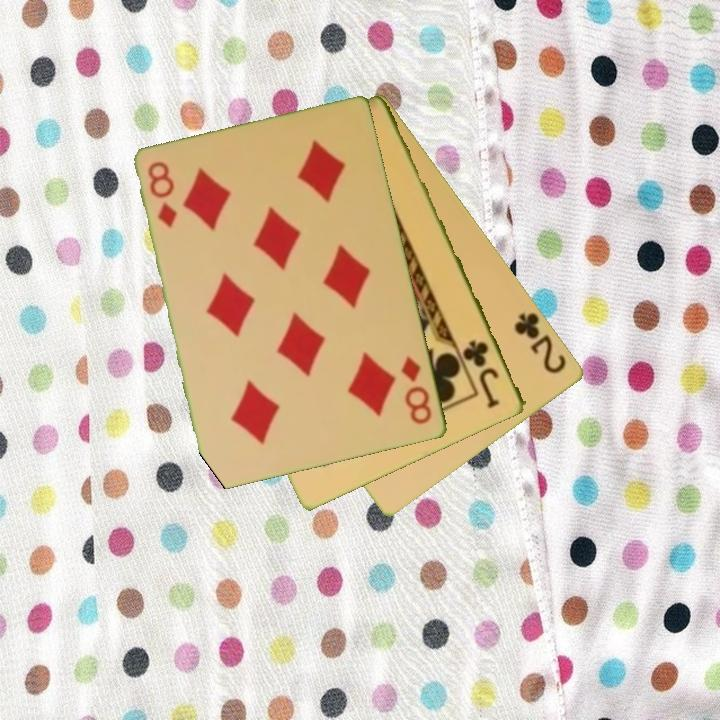2c: (511, 308, 570, 377)
8d: (398, 353, 436, 428), (144, 158, 181, 231)
Jc: (460, 336, 503, 411)
